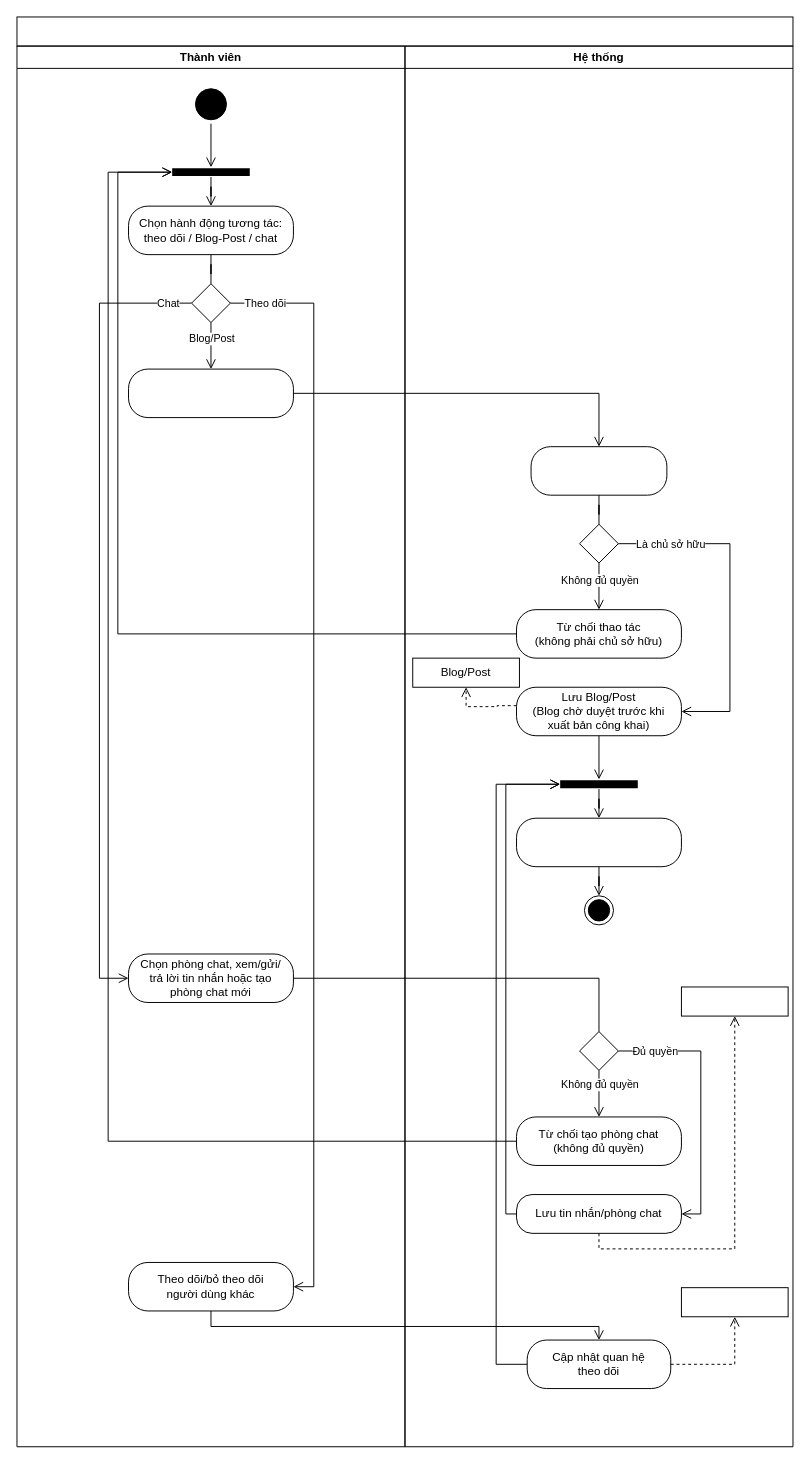
Image size: 810x1464. Some labels were removed from this diagram. The shapes that lost their labels are listed below. From the top down, each one's centre as x and y in pixels, then its label:
the point at 404,31: TƯƠNG TÁC CỘNG ĐỒNG
the point at 210,393: Nhập nội dung Blog/Post, chọn quyền riêng tư
the point at 598,470: Kiểm tra quyền sở hữu nội dung
the point at 598,842: Cập nhật dữ liệu và hiển thị kết quả trên giao diện
the point at 734,1001: Message
the point at 734,1302: UserFollow
